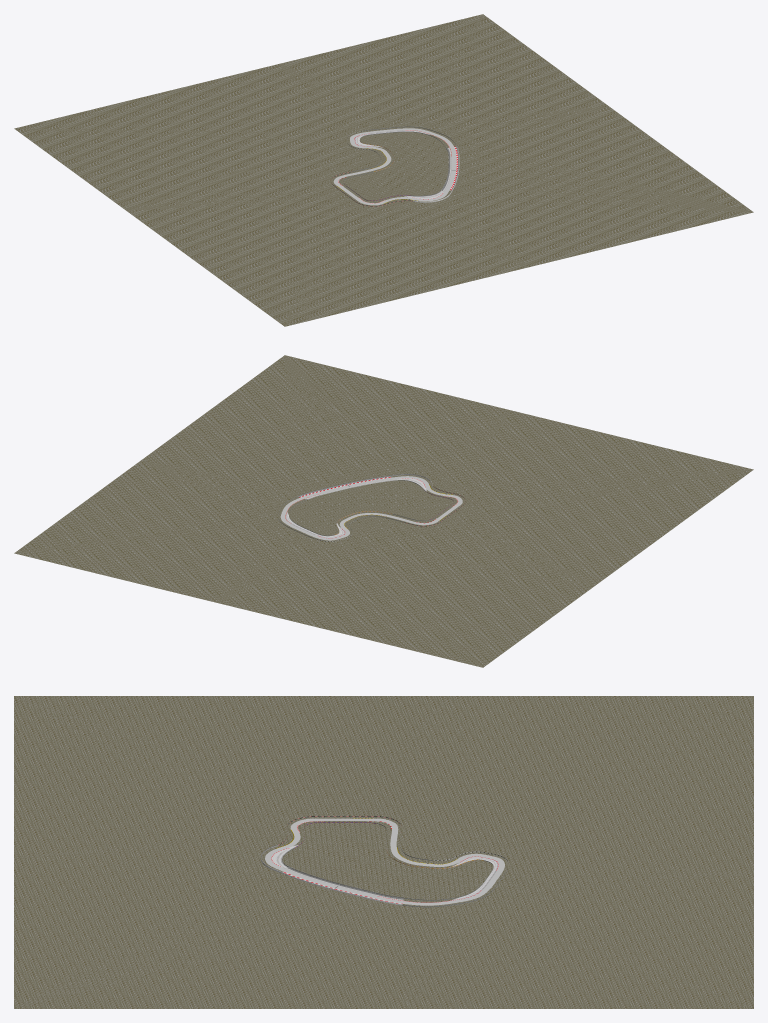
The model's file is duongdua.fbx.
The picture shows the model from 3 angles, top to bottom: view 1: azimuth 30°, elevation 25°; view 2: azimuth 150°, elevation 25°; view 3: azimuth 270°, elevation 25°; orthographic projection. The views are drawn at different scales.
Parts seen in each view (by area): view 1: Object239, Object238, Road; view 2: Object239, Object238, Road; view 3: Object239, Object238, Road, hang rao055.
Part boxes in pixels (left/top/right/bottom): Object239: left=14, top=14, right=753, bottom=326; Object238: left=343, top=132, right=448, bottom=200; Road: left=333, top=128, right=456, bottom=205; Object239: left=14, top=355, right=753, bottom=667; Object238: left=289, top=480, right=453, bottom=535; Road: left=280, top=476, right=462, bottom=540; Object239: left=14, top=696, right=753, bottom=1008; Object238: left=282, top=823, right=493, bottom=899; Road: left=265, top=818, right=504, bottom=905; hang rao055: left=260, top=845, right=403, bottom=905.
Bounding box in the file's own units: 250284 × 250284 × 533.
